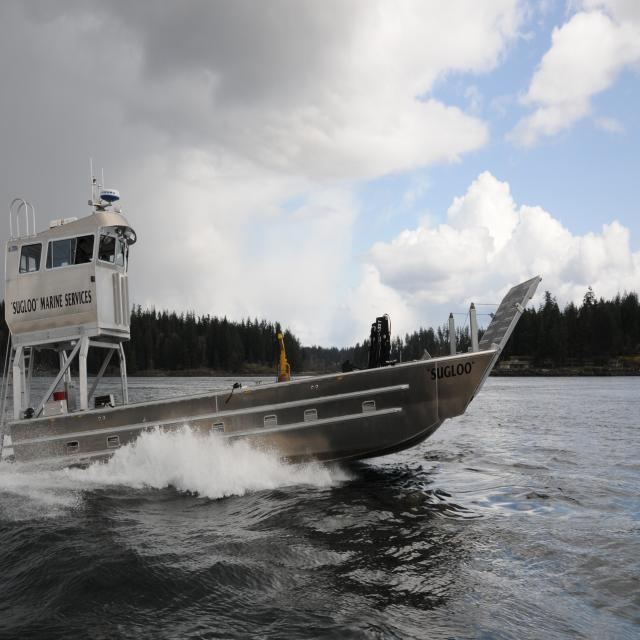houseboat: (0, 174, 534, 485)
